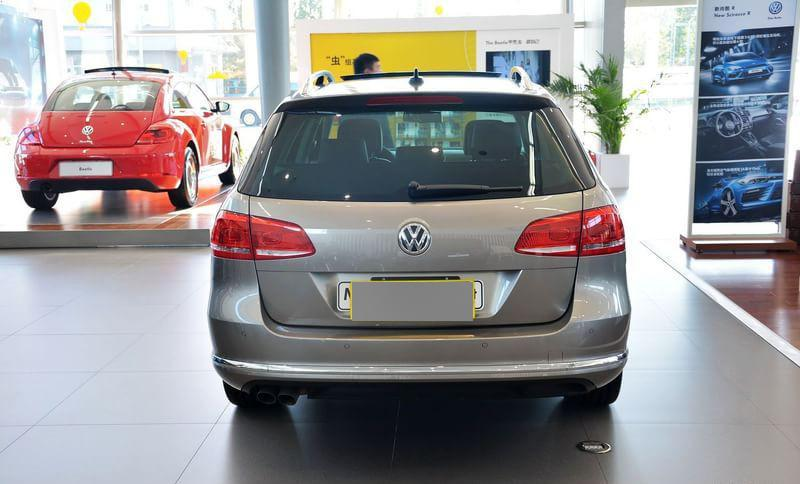Wagon: (206, 65, 634, 413)
